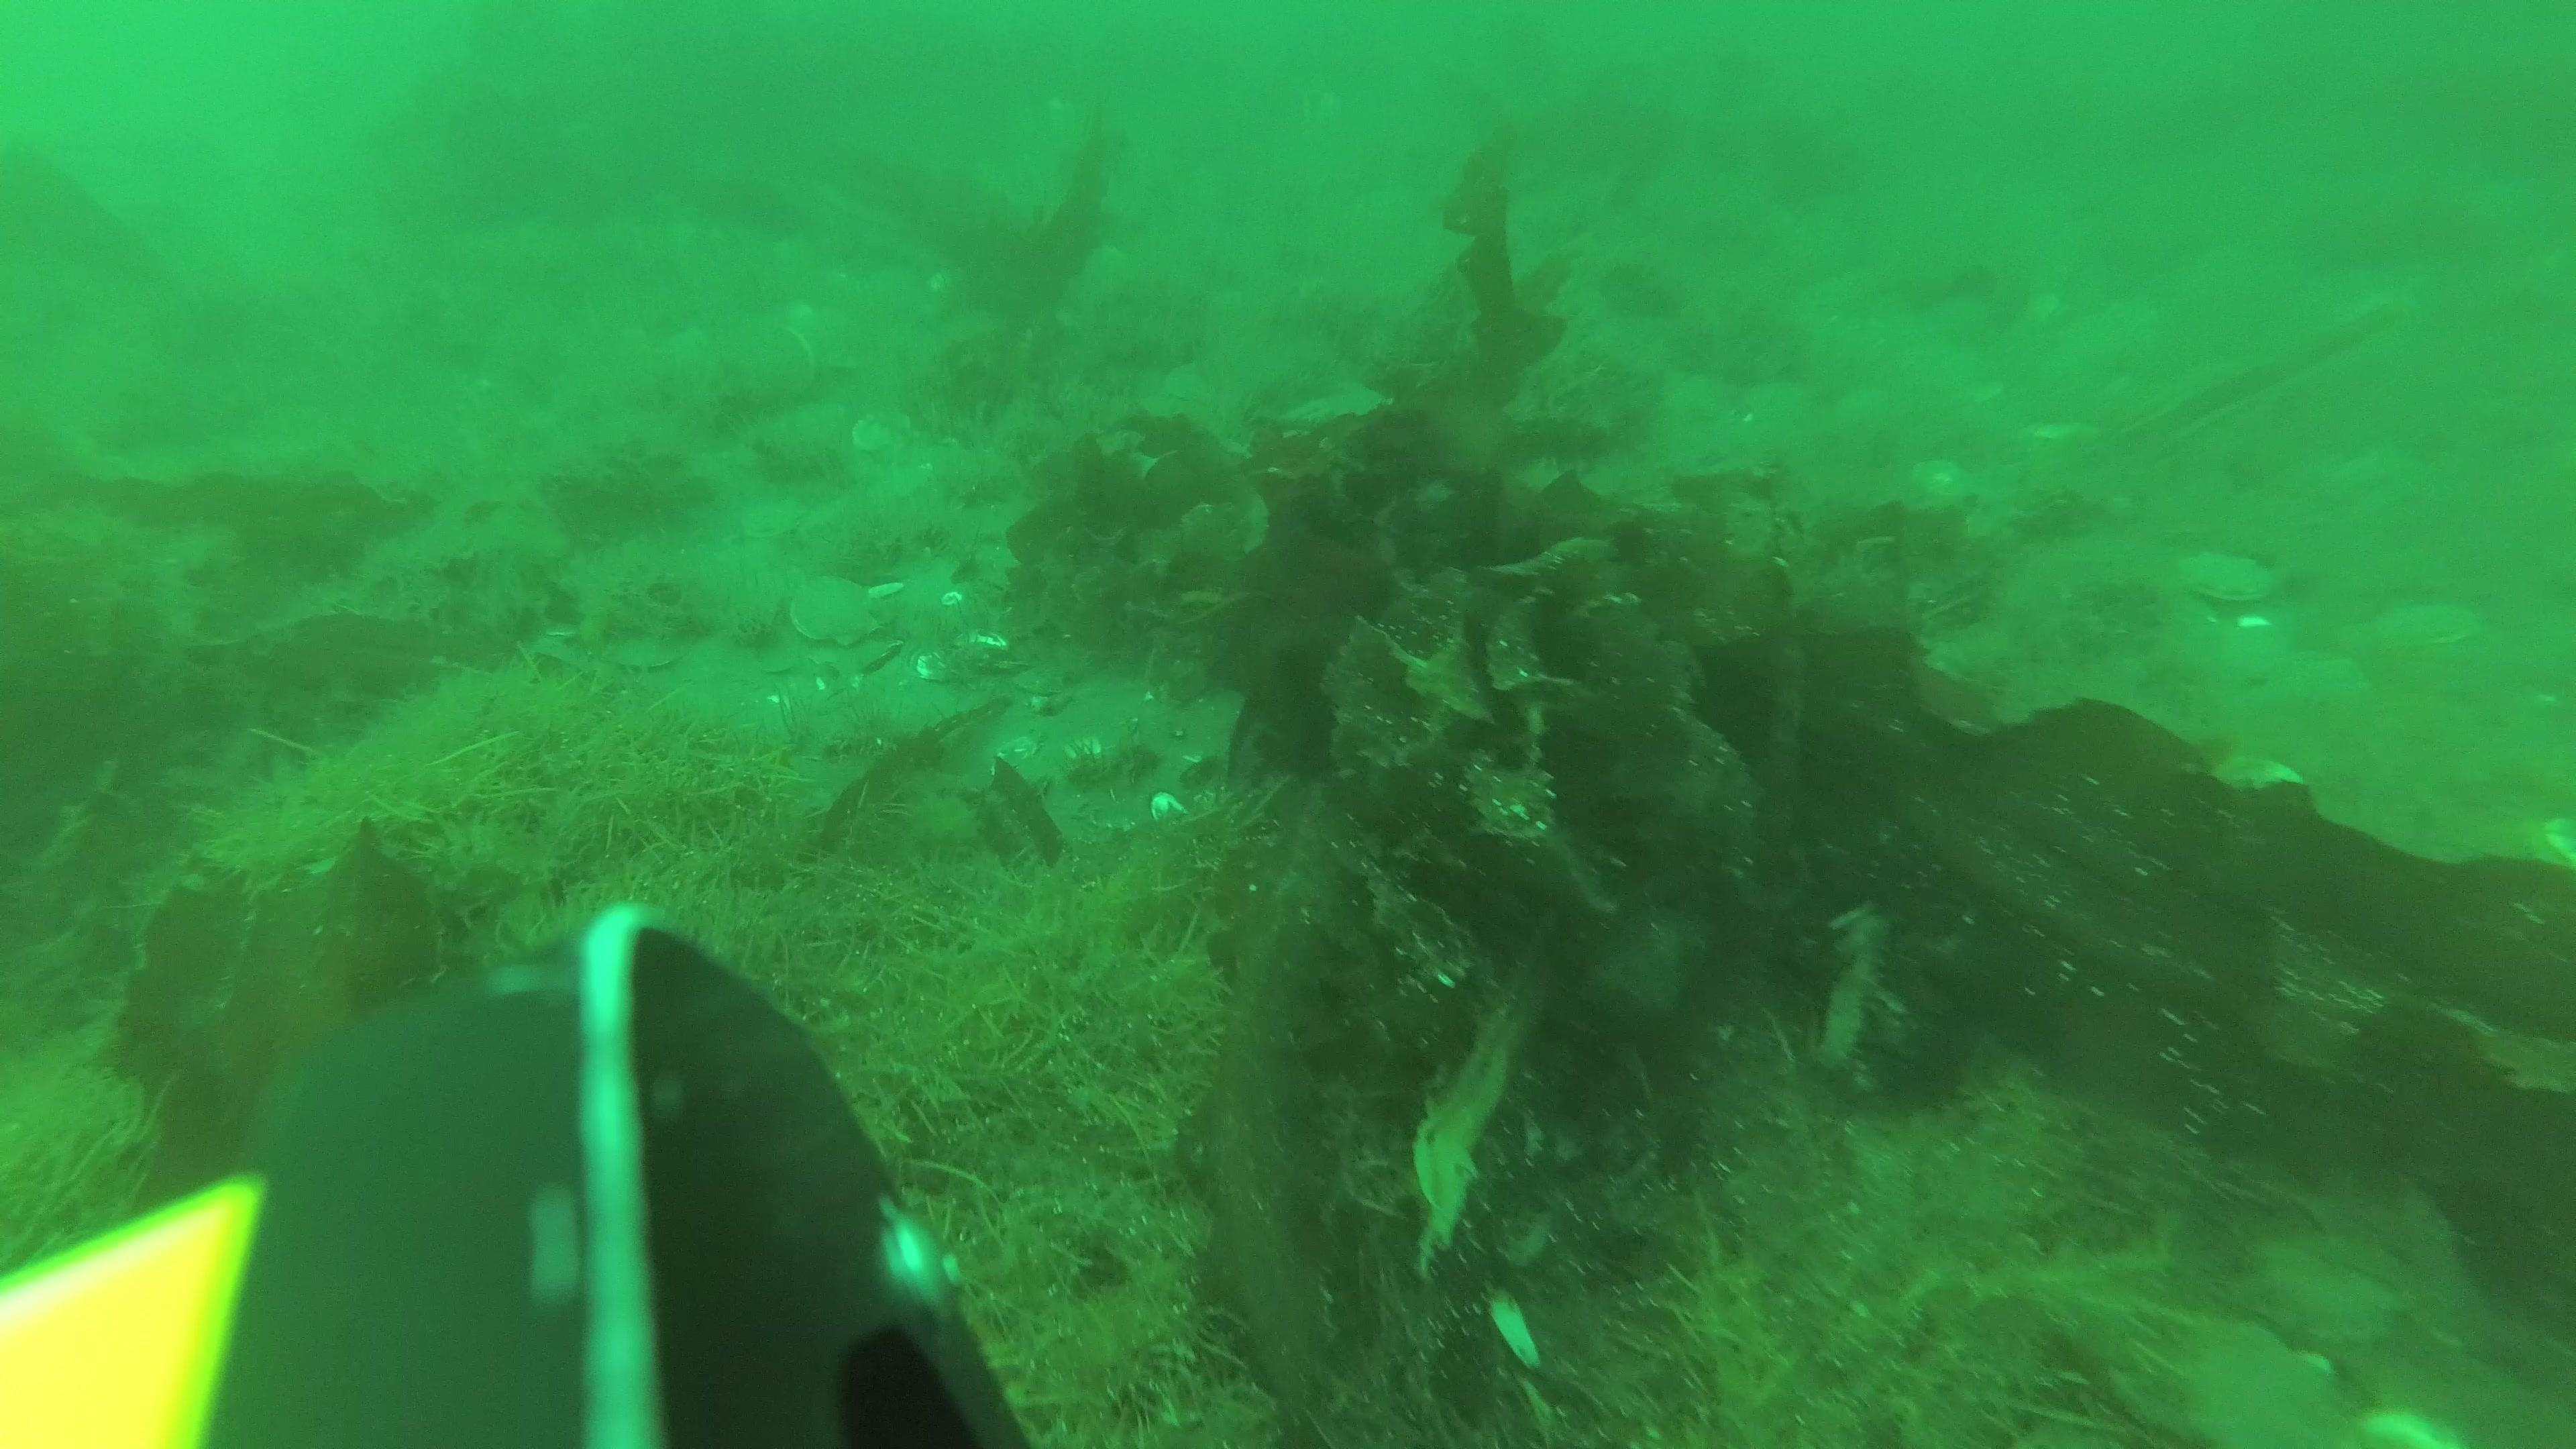scallop: (2109, 1295, 2332, 1449), (2238, 1215, 2440, 1353), (2167, 540, 2288, 610), (787, 573, 883, 649), (2373, 593, 2489, 653), (609, 621, 702, 676), (2215, 743, 2302, 800), (738, 492, 816, 548), (847, 407, 924, 456)
